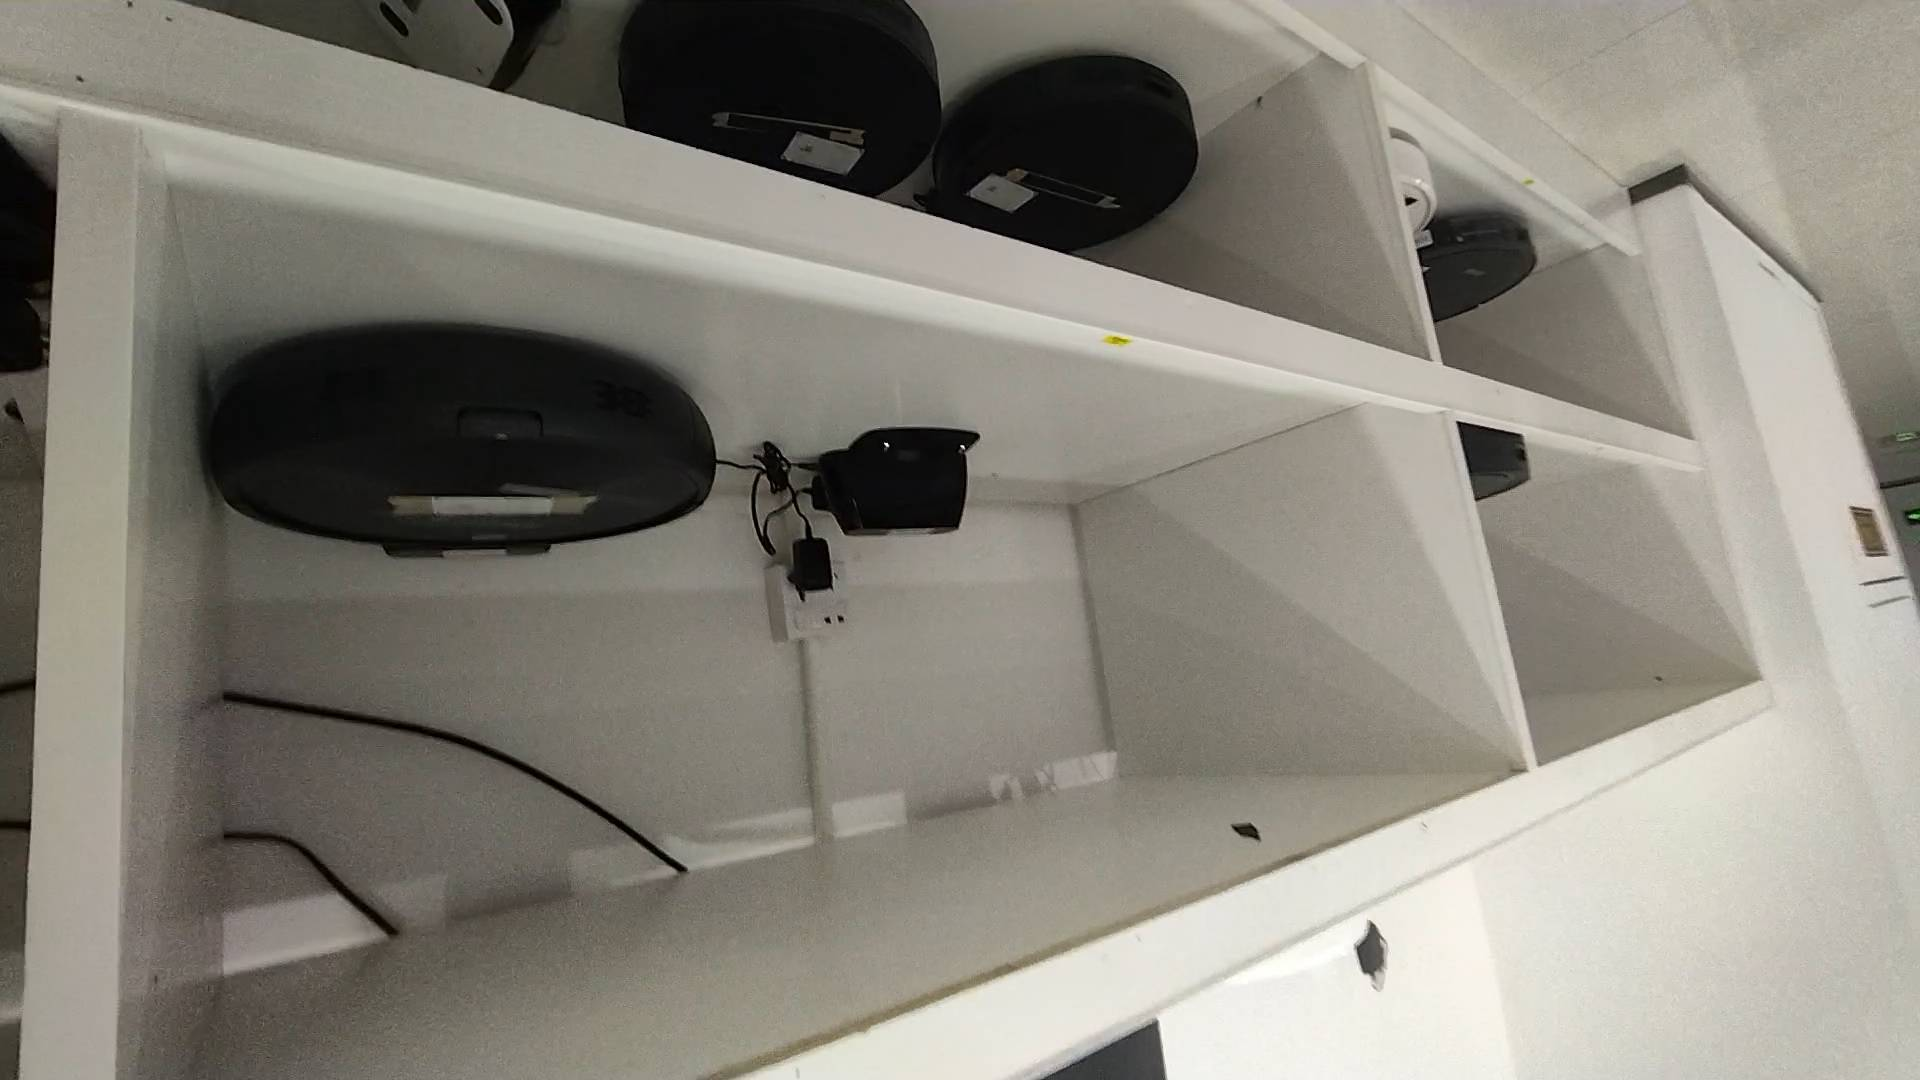recharge seat: (808, 429, 984, 537)
